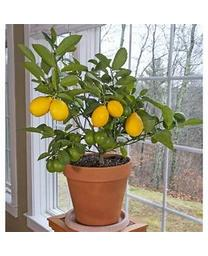lemon: (29, 96, 54, 119), (126, 113, 144, 136), (48, 99, 68, 119), (91, 106, 110, 126), (108, 100, 125, 116)
